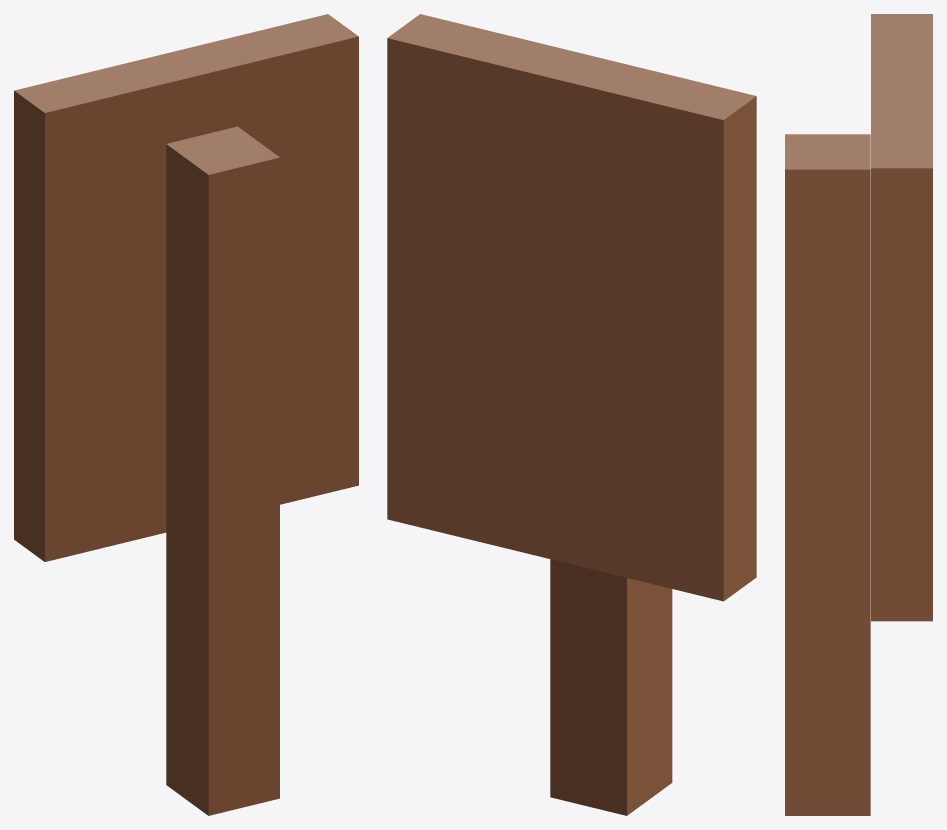
The model's file is TB_Prop_Sign.FBX.
3 views of the same model, side by side, from view 1: azimuth 30°, elevation 25°; view 2: azimuth 150°, elevation 25°; view 3: azimuth 270°, elevation 25° (orthographic). The views are drawn at different scales.
Visible parts, largest first — view 1: TB_Prop_Sign; view 2: TB_Prop_Sign; view 3: TB_Prop_Sign.
Boxes of the visible parts, x1,y1,x2,y2 form: TB_Prop_Sign: (14,14,358,815); TB_Prop_Sign: (387,14,756,815); TB_Prop_Sign: (785,14,932,815).
Bounding box in the file's own units: 0.7306 × 1.56 × 0.2952.
